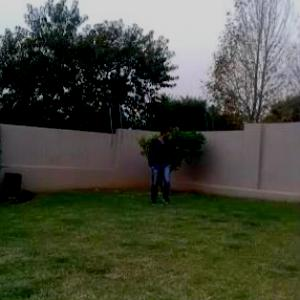follow: (148, 122, 173, 206)
